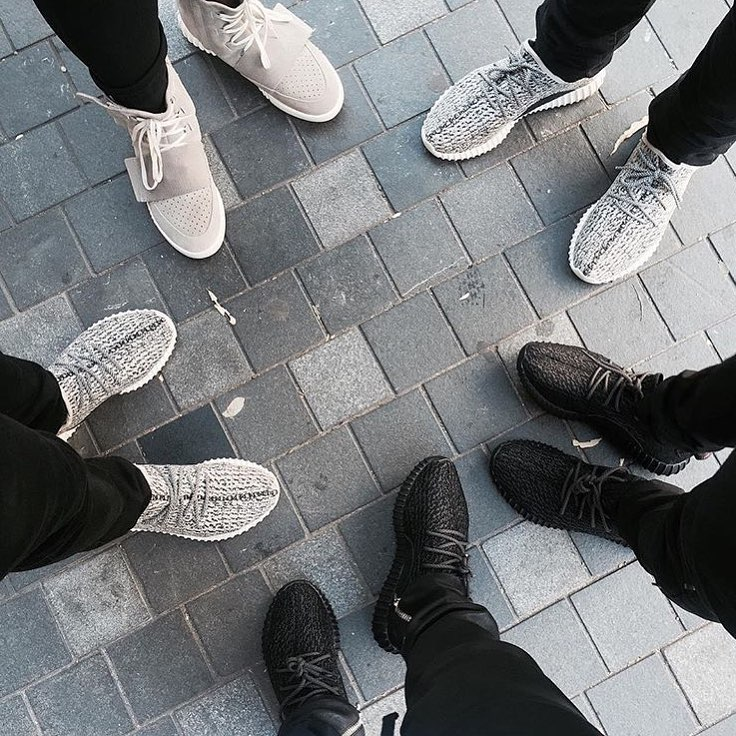sneaker: (85, 47, 250, 286), (499, 315, 709, 493), (476, 424, 700, 580), (407, 21, 618, 181), (555, 106, 703, 310), (358, 443, 485, 671), (162, 1, 359, 144), (18, 294, 191, 447), (245, 557, 367, 736), (99, 445, 289, 559)
